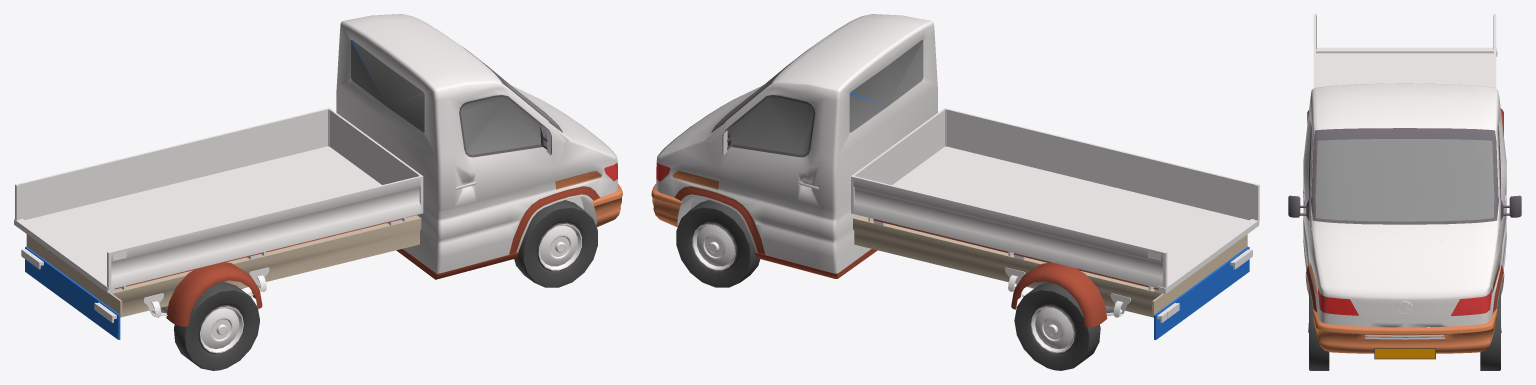
File: Lv69_Van.fbx
3 renders of one model, left to right at view 1: azimuth 30°, elevation 25°; view 2: azimuth 150°, elevation 25°; view 3: azimuth 270°, elevation 25°, orthographic. The views are drawn at different scales.
Visible parts, largest first — view 1: WHITE_BODY; view 2: WHITE_BODY; view 3: WHITE_BODY.
Boxes of the visible parts, <box> form: WHITE_BODY: <box>14,14,622,370</box>; WHITE_BODY: <box>651,14,1259,370</box>; WHITE_BODY: <box>1288,14,1521,370</box>.
Size of the model in its own units: 150 by 62.95 by 59.07.
Materials: 2 (1 with a texture image).
